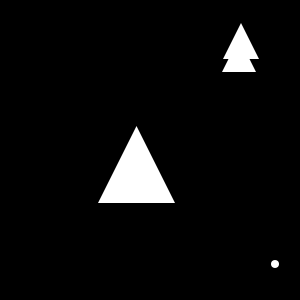rectangle: (271, 260, 279, 268)
triangle: (98, 126, 175, 203), (223, 23, 259, 59), (222, 38, 256, 72)
